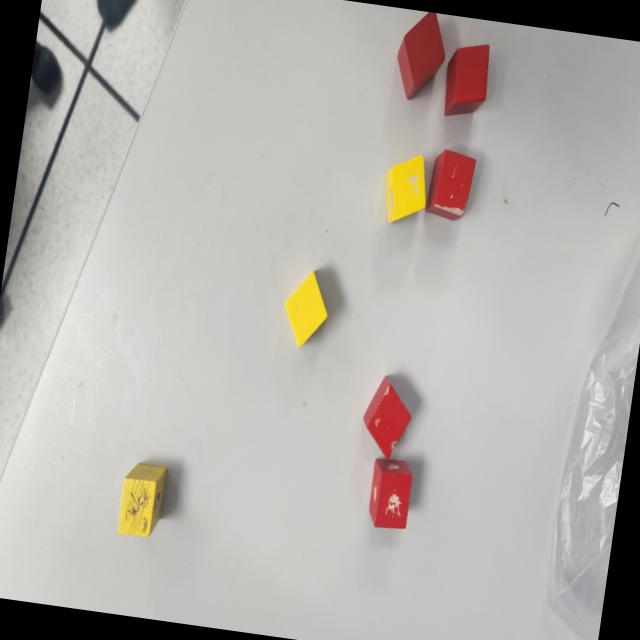broken: (357, 374, 417, 464), (378, 148, 434, 230), (115, 461, 168, 542), (424, 147, 478, 224), (366, 456, 416, 533)
red: (391, 9, 450, 107), (439, 38, 494, 124)
yellow: (279, 267, 333, 353)
